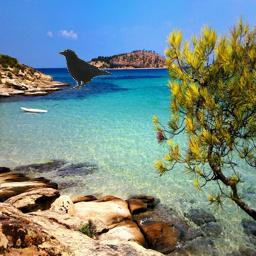Crow: (57, 48, 112, 89)
